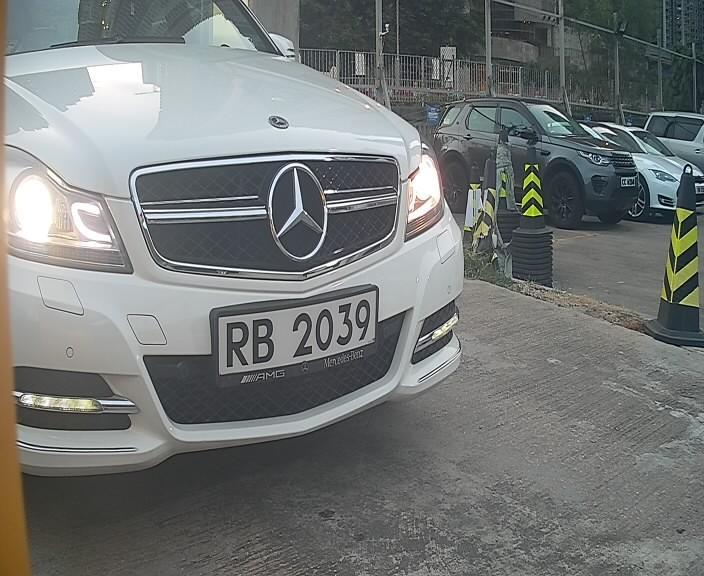privatecar: (7, 16, 481, 489)
